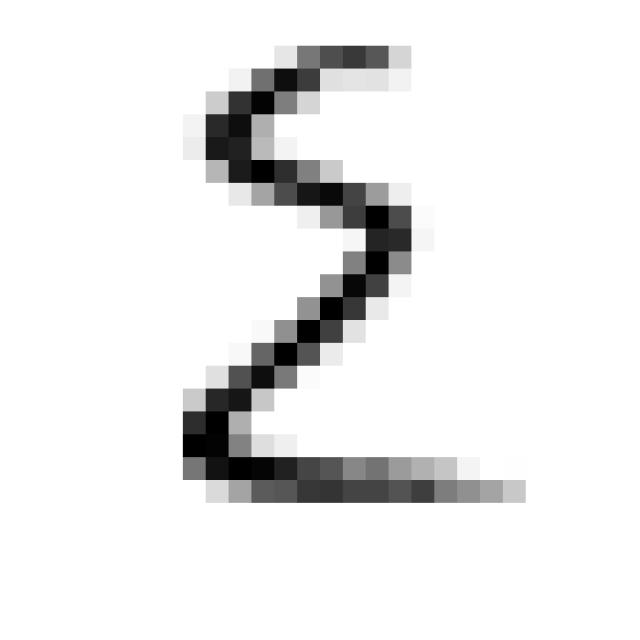4 -four-: (165, 37, 543, 526)
